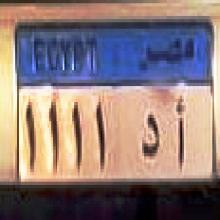1: (91, 98, 110, 176), (69, 96, 86, 174), (24, 92, 40, 173), (46, 98, 63, 174)
alif: (168, 88, 191, 168)
daal: (140, 106, 162, 168)
